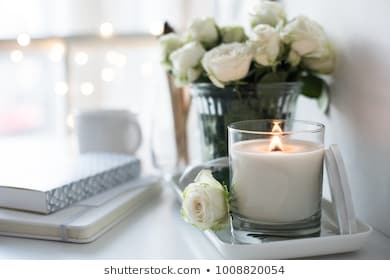Fire: (265, 118, 288, 153)
